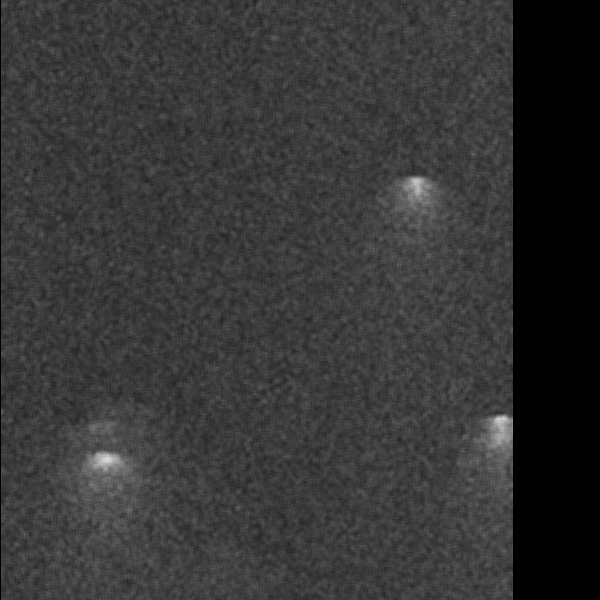spark: (415, 113, 460, 226), (326, 168, 375, 253), (117, 1, 156, 107), (94, 465, 141, 542), (352, 380, 398, 453), (369, 293, 402, 382), (421, 430, 454, 519), (311, 93, 346, 172), (474, 256, 504, 309), (277, 133, 298, 190)
